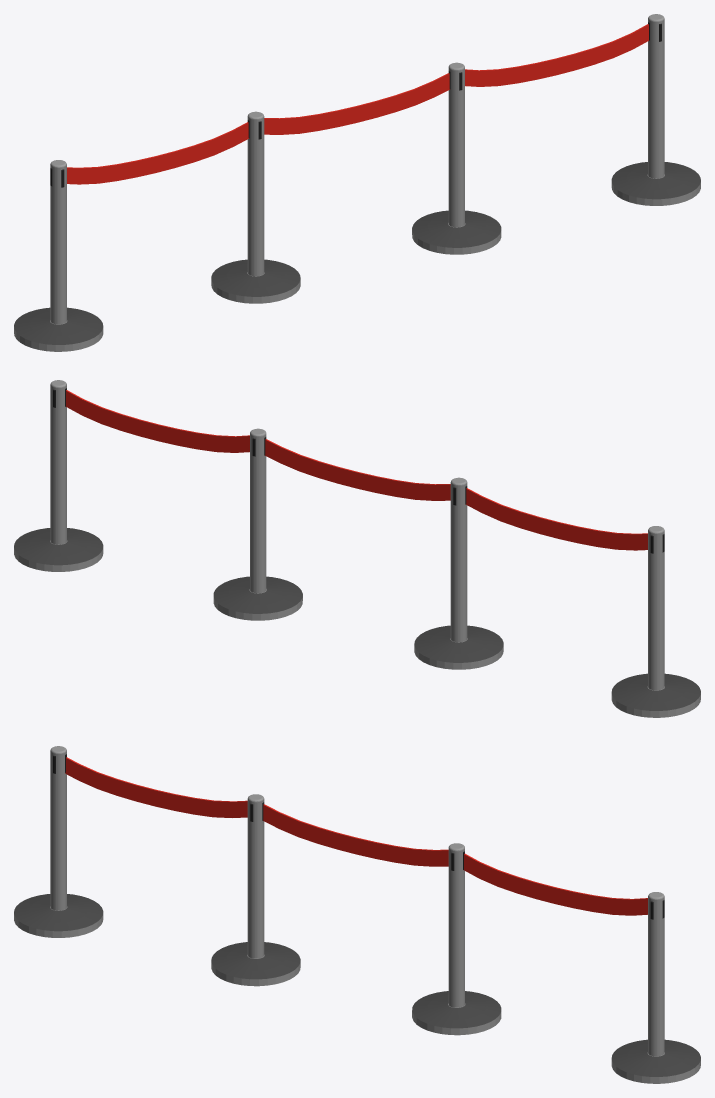
File: stand 3.fbx
3 renders of one model, top to bottom at view 1: azimuth 30°, elevation 25°; view 2: azimuth 150°, elevation 25°; view 3: azimuth 330°, elevation 25°, orthographic.
Parts seen in each view (by area): view 1: Cylinder; view 2: Cylinder; view 3: Cylinder.
Boxes of the visible parts, x1,y1,x2,y2 form: Cylinder: [14, 14, 700, 351]; Cylinder: [14, 380, 700, 717]; Cylinder: [14, 746, 700, 1083].
Bounding box in the file's own units: 1694 × 408 × 195.
